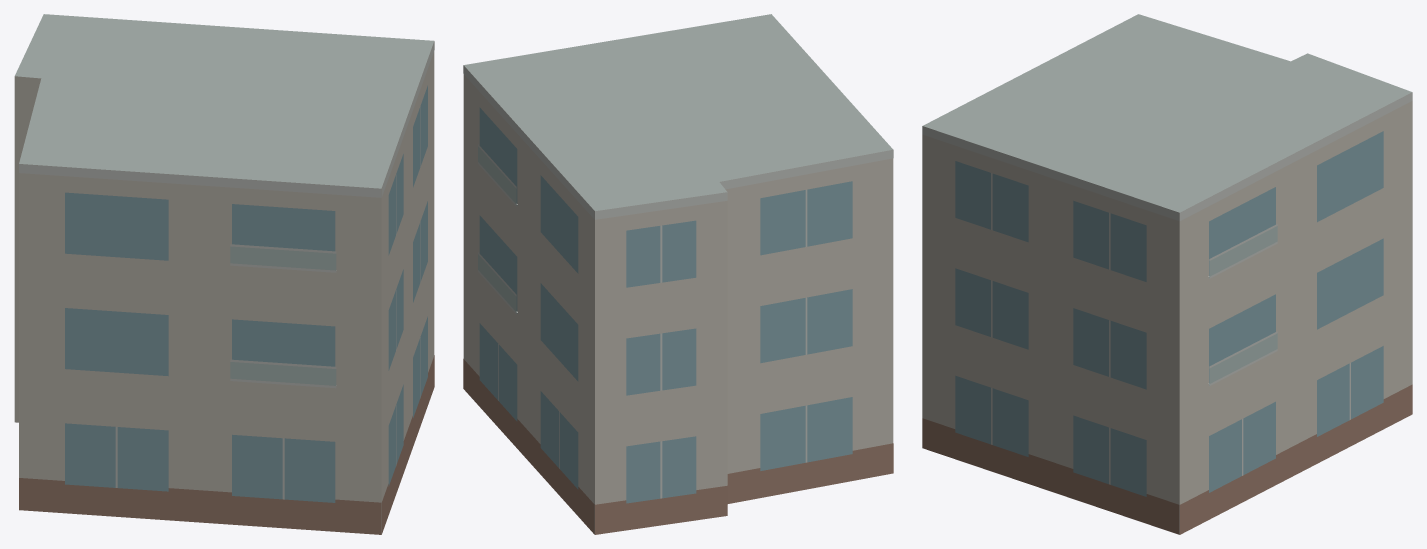
The model's file is survey-upis-32654005.glb.
The picture shows the model from 3 angles, left to right: view 1: azimuth 30°, elevation 25°; view 2: azimuth 150°, elevation 25°; view 3: azimuth 270°, elevation 25°; orthographic projection. The views are drawn at different scales.
Visible parts, largest first — view 1: survey-upis-32654005.tmp; view 2: survey-upis-32654005.tmp; view 3: survey-upis-32654005.tmp.
Part boxes in pixels (x1,y1,x2,y2): survey-upis-32654005.tmp: [14, 14, 434, 534]; survey-upis-32654005.tmp: [463, 14, 893, 534]; survey-upis-32654005.tmp: [922, 14, 1412, 534].
Size of the model in its own units: 12.11 by 9.15 by 12.62.
